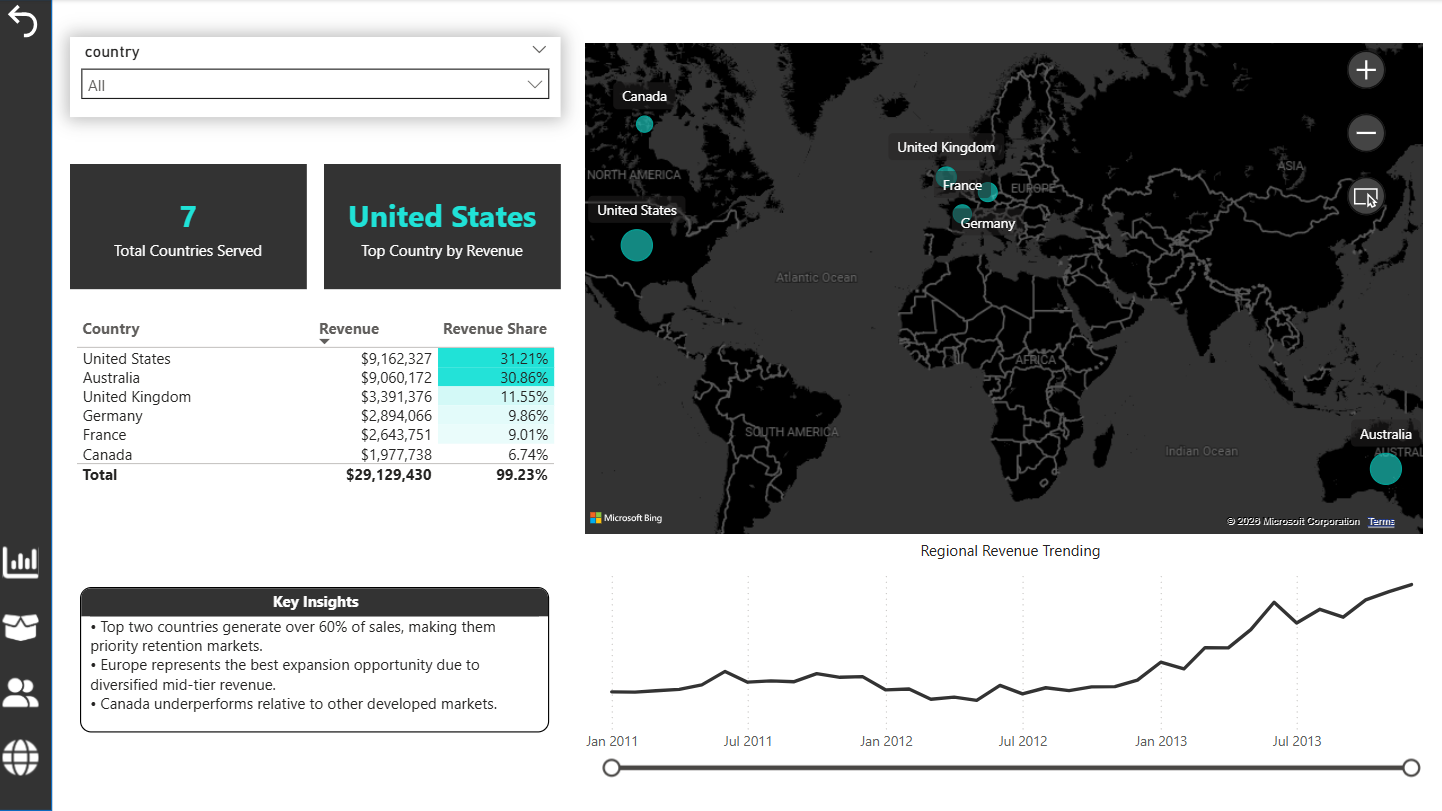

The dashboard page shown, as its layout file describes it:
{"tool":"powerbi","page":{"name":"Regional Performance","canvas":[1280,720],"ordinal":3},"visuals":[{"type":"shape","box":[0,0,48,720],"z":0},{"type":"map","title":"Revenue by Country","fields":{"Category":["dim_customers.country"],"Size":["Measure Table.Total Revenue"]},"box":[514.8,33.9,753.2,446],"z":1000},{"type":"actionButton","box":[0,480,48.2,40],"z":1000,"group":"g1"},{"type":"group","id":"g1","title":"Navigation Buttons","box":[0,480,48.2,212.5],"z":2000},{"type":"card","title":"Total Countries Served","fields":{"Values":["Measure Table.Total Countries Served"]},"box":[63.9,146.7,209.5,110.7],"z":2001},{"type":"card","fields":{"Values":["Min(dim_customers.country)"]},"box":[289.3,146.7,209.5,110.7],"z":2002},{"type":"tableEx","title":"Top Countries by Revenue","fields":{"Values":["dim_customers.country","Measure Table.Total Revenue","Measure Table.Revenue % Country"]},"box":[63.9,278.3,435,201.5],"z":2003},{"type":"lineChart","title":"Regional Revenue Trending","fields":{"Category":["dim_calendar.Date Hierarchy.Start of Year","dim_calendar.Date Hierarchy.Start of Quarter","dim_calendar.Date Hierarchy.Start of Month","dim_calendar.Date Hierarchy.Start of Week"],"Y":["Measure Table.Total Revenue"]},"box":[514.8,479.9,765.2,212.5],"z":2004},{"type":"slicer","fields":{"Values":["dim_customers.country"]},"box":[63.9,33.9,435,70.8],"z":2005},{"type":"textbox","title":"Key Insights","box":[72.8,521.8,416,128.7],"z":2006},{"type":"actionButton","box":[2.4,0,45.8,38.8],"z":2007},{"type":"actionButton","box":[0.1,537.4,48,40.3],"z":4000,"group":"g1"},{"type":"actionButton","box":[0,595.2,48.2,40],"z":5000,"group":"g1"},{"type":"actionButton","box":[0.1,652.6,47.9,39.9],"z":17000,"group":"g1"}]}

Visuals, with their boxes on the page's 1280x720 design canvas (x1, y1, x2, y2). These are canvas units, not pixel positions in the 1442x811 screenshot, which may show the page scaled, cropped or inside an application window:
shape: <bbox>0, 0, 48, 720</bbox>
"Revenue by Country" map: <bbox>515, 34, 1268, 480</bbox>
actionButton: <bbox>0, 480, 48, 520</bbox>
"Navigation Buttons" group: <bbox>0, 480, 48, 692</bbox>
"Total Countries Served" card: <bbox>64, 147, 273, 257</bbox>
card - Min(dim_customers.country): <bbox>289, 147, 499, 257</bbox>
"Top Countries by Revenue" tableEx: <bbox>64, 278, 499, 480</bbox>
"Regional Revenue Trending" lineChart: <bbox>515, 480, 1280, 692</bbox>
slicer - dim_customers.country: <bbox>64, 34, 499, 105</bbox>
"Key Insights" textbox: <bbox>73, 522, 489, 650</bbox>
actionButton: <bbox>2, 0, 48, 39</bbox>
actionButton: <bbox>0, 537, 48, 578</bbox>
actionButton: <bbox>0, 595, 48, 635</bbox>
actionButton: <bbox>0, 653, 48, 692</bbox>
